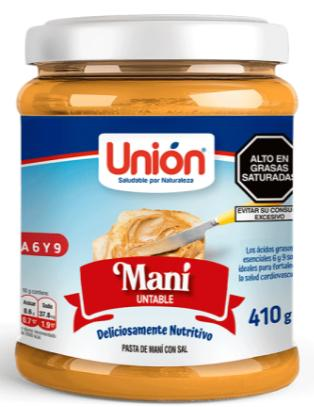brand: (102, 135, 209, 178)
net_weight: (247, 297, 300, 338)
product_name: (111, 258, 196, 310)
